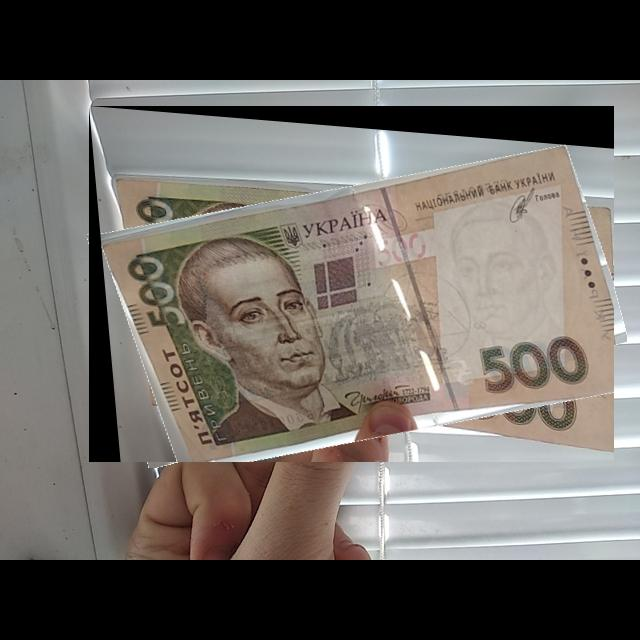500uah: (99, 137, 615, 463)
